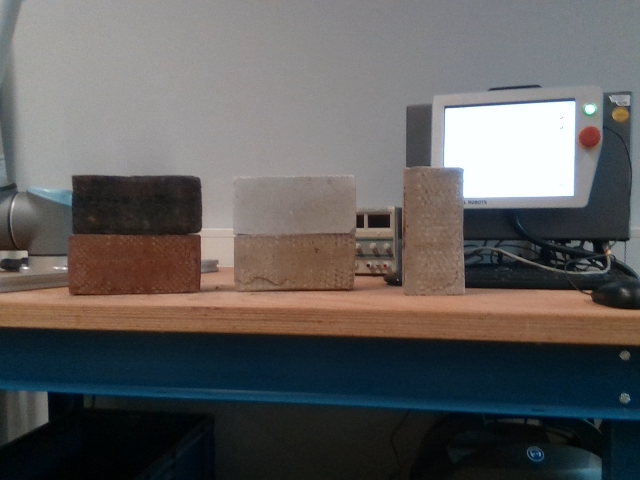brick: (404, 169, 464, 293), (73, 176, 200, 231), (69, 236, 196, 291), (231, 175, 357, 230), (237, 234, 354, 289)
